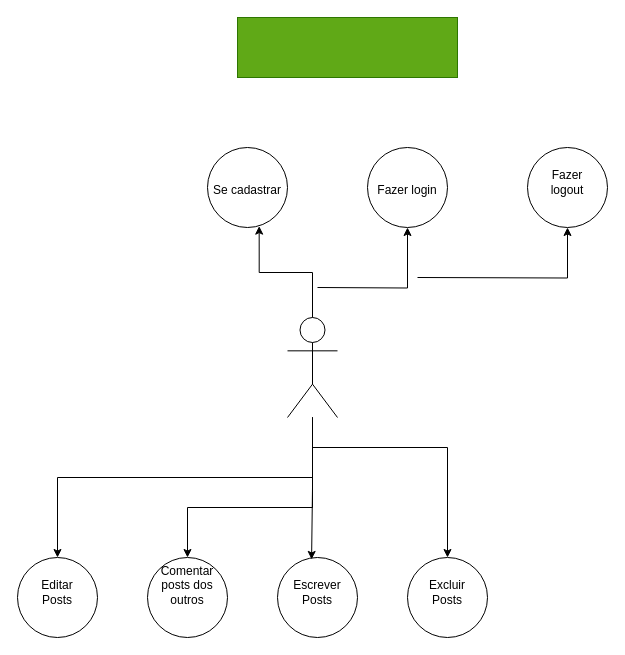
This 625x655 diagram has some shape labels left out. Each missing label, with the box of its shape:
Actor - User: (286, 316, 338, 418)
CASOS DE USO: (236, 16, 458, 78)
